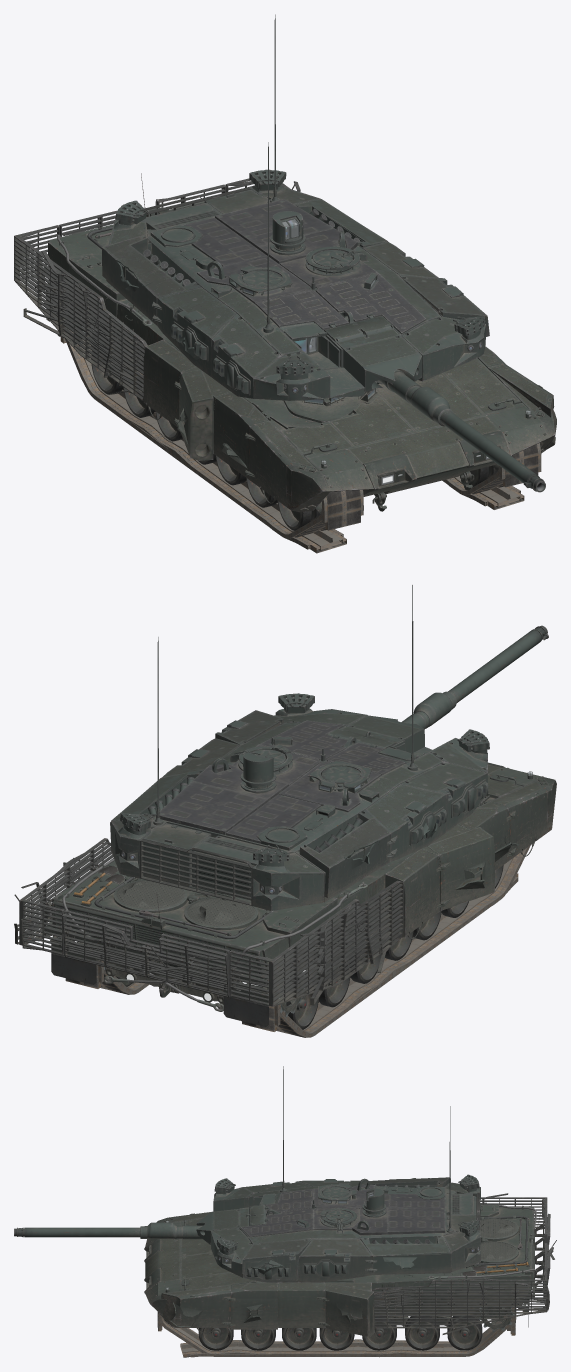
The model's file is VEH_Leopard.glb.
3 views of the same model, one above another, from view 1: azimuth 30°, elevation 25°; view 2: azimuth 150°, elevation 25°; view 3: azimuth 270°, elevation 25° (orthographic). The views are drawn at different scales.
Visible parts, largest first — view 1: ob_veh_tank_leopard_base_s0, ob_veh_tank_leopard_base_s1, ob_veh_tank_leopard_tracks_s0_p1, ob_veh_tank_leopard_tracks_s0_p0, ob_veh_tank_leopard_base_s4; view 2: ob_veh_tank_leopard_base_s0, ob_veh_tank_leopard_base_s1, ob_veh_tank_leopard_tracks_s0_p1, ob_veh_tank_leopard_base_s3, ob_veh_tank_leopard_tracks_s0_p0; view 3: ob_veh_tank_leopard_base_s1, ob_veh_tank_leopard_base_s0, ob_veh_tank_leopard_tracks_s0_p0, ob_veh_tank_leopard_base_s3.
Boxes of the visible parts, x1=… form: ob_veh_tank_leopard_base_s0: x1=102, y1=14, x2=545, y2=492; ob_veh_tank_leopard_base_s1: x1=14, y1=173, x2=556, y2=530; ob_veh_tank_leopard_tracks_s0_p1: x1=57, y1=308, x2=363, y2=553; ob_veh_tank_leopard_tracks_s0_p0: x1=442, y1=443, x2=541, y2=509; ob_veh_tank_leopard_base_s4: x1=234, y1=219, x2=530, y2=484; ob_veh_tank_leopard_base_s0: x1=110, y1=585, x2=548, y2=910; ob_veh_tank_leopard_base_s1: x1=14, y1=762, x2=556, y2=1029; ob_veh_tank_leopard_tracks_s0_p1: x1=241, y1=845, x2=530, y2=1037; ob_veh_tank_leopard_base_s3: x1=116, y1=880, x2=255, y2=926; ob_veh_tank_leopard_tracks_s0_p0: x1=65, y1=960, x2=148, y2=994; ob_veh_tank_leopard_base_s1: x1=144, y1=1193, x2=556, y2=1350; ob_veh_tank_leopard_base_s0: x1=14, y1=1066, x2=480, y2=1282; ob_veh_tank_leopard_tracks_s0_p0: x1=157, y1=1299, x2=516, y2=1357; ob_veh_tank_leopard_base_s3: x1=480, y1=1218, x2=516, y2=1260.
Bounding box in the file's own units: 4.78 × 5.19 × 10.83.
7 materials, 6 textured.
